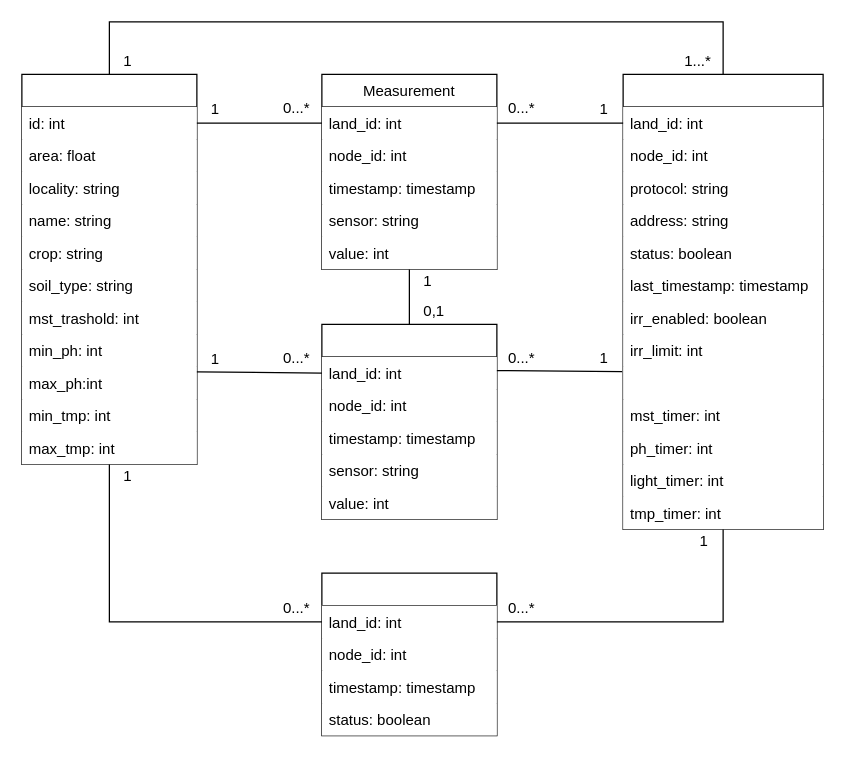
The diagram is 845 pixels wide and 761 high, and some of its shapes have lost their labels. The box of each missing label's shape, as (x1, y1, x2, y2) in pixels:
Configuration: (622, 73, 823, 529)
irr_duration: int: (622, 366, 822, 399)
Irrigation: (321, 572, 497, 736)
Land: (21, 73, 197, 464)
Violation: (321, 323, 497, 519)
